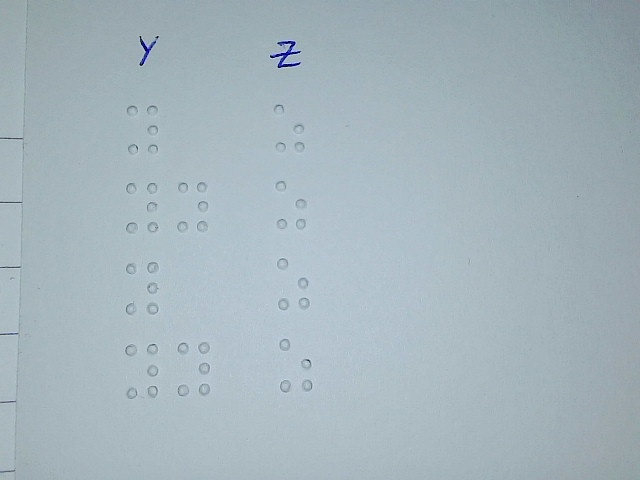Y: (176, 341, 212, 397), (124, 260, 160, 316), (125, 102, 161, 156), (175, 179, 211, 233)
Z: (278, 336, 314, 392), (276, 256, 311, 310), (272, 102, 306, 155), (274, 178, 308, 231)
